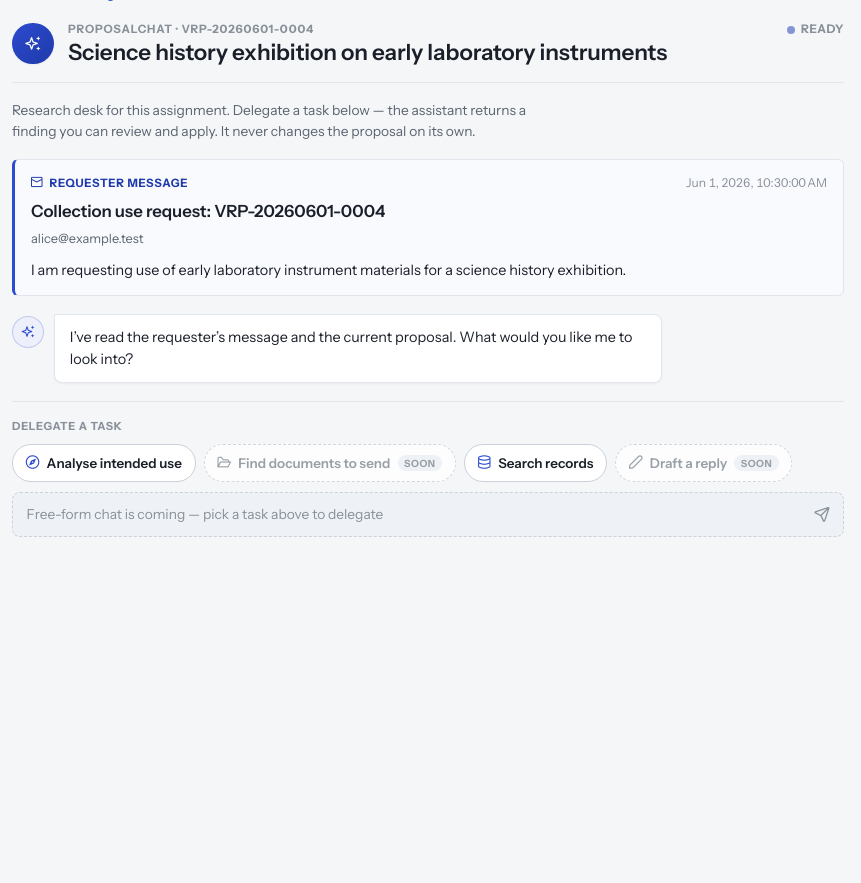
Test: ProposalChatPanelComponent › shows authorization errors when selected records cannot be attached
Click the button "Search records" at (535, 463), box [464,444,607,482]
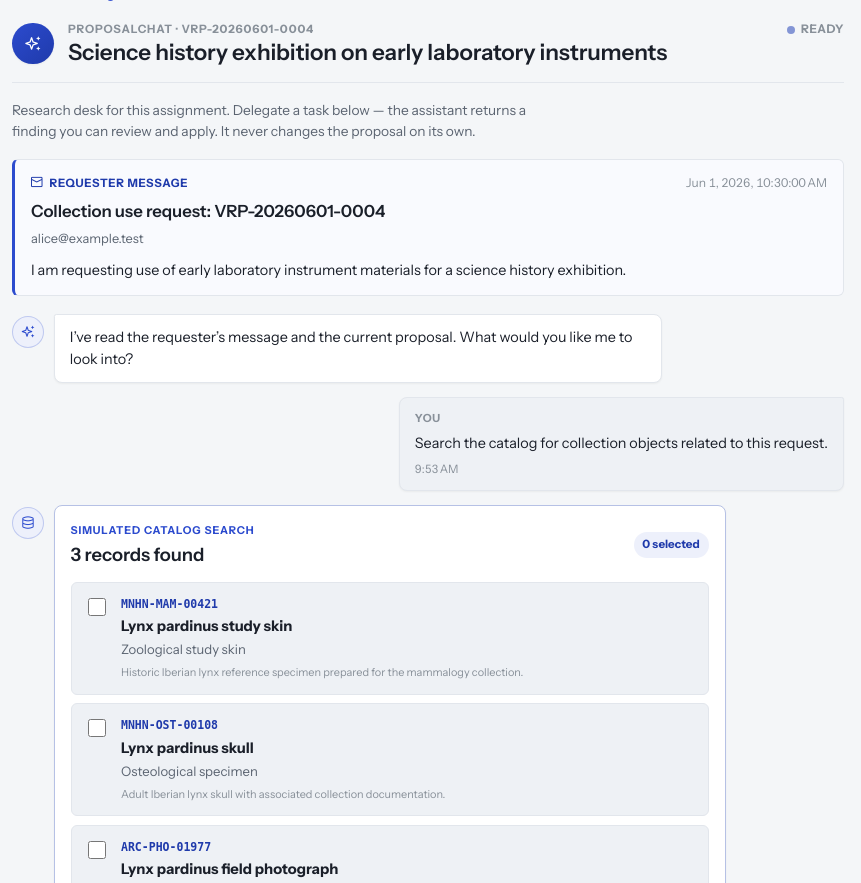
Click the 1st checkbox at (97, 607), box [88,598,106,616]
(page scrolled)
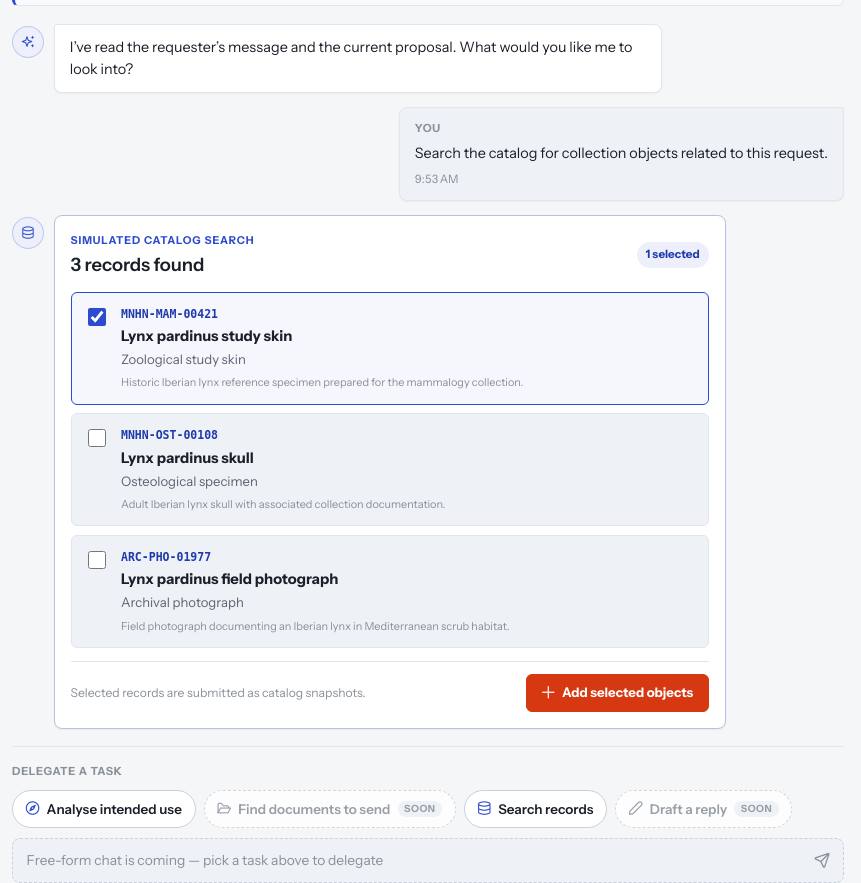
Click the button "Add selected objects" at (617, 693), box [526,674,709,712]
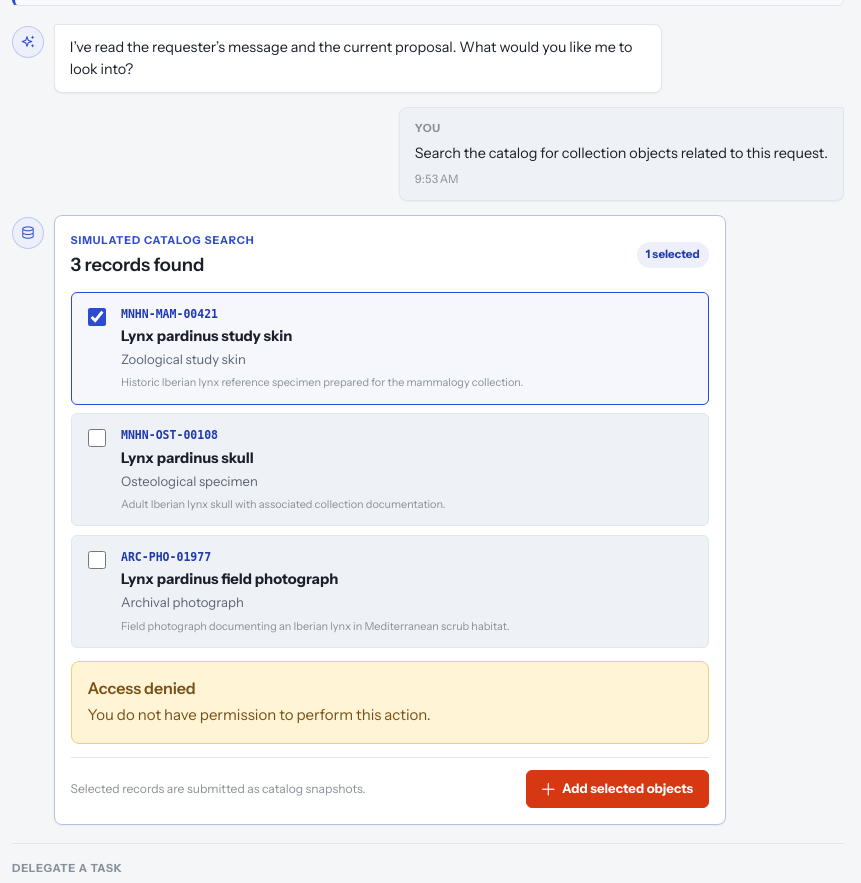
Now the text "Access denied" is shown, box [88,678,196,698]
